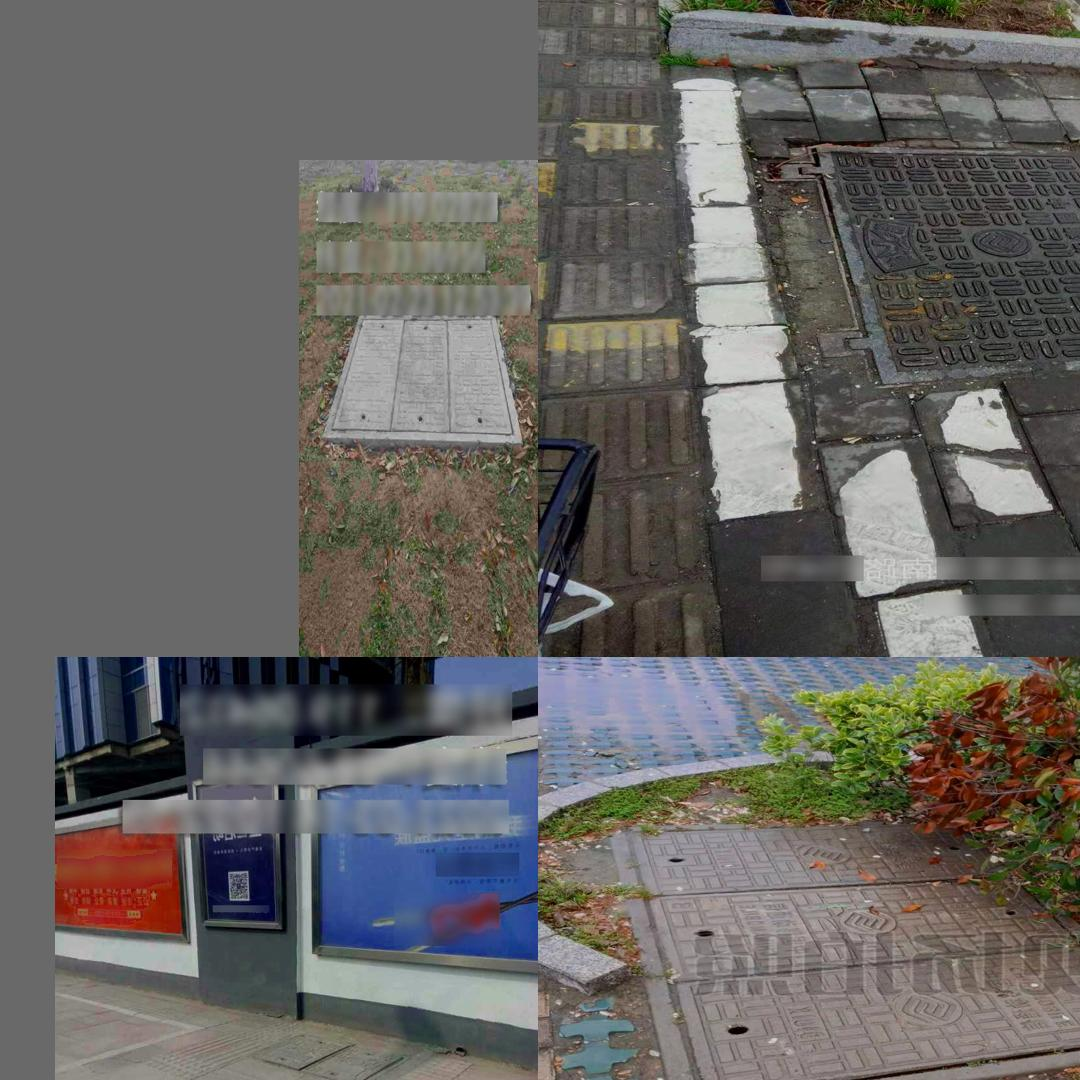good: (608, 824, 1080, 1080), (767, 142, 1080, 390), (321, 314, 523, 447), (252, 1032, 409, 1080)
